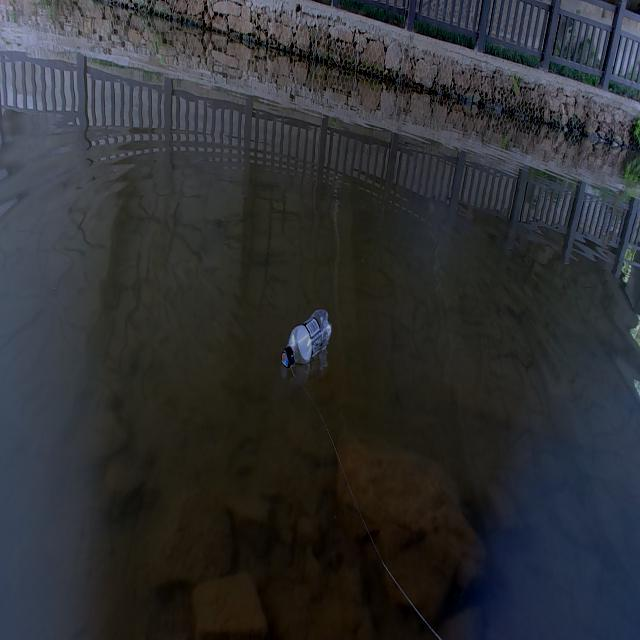bottle: (260, 275, 348, 402)
